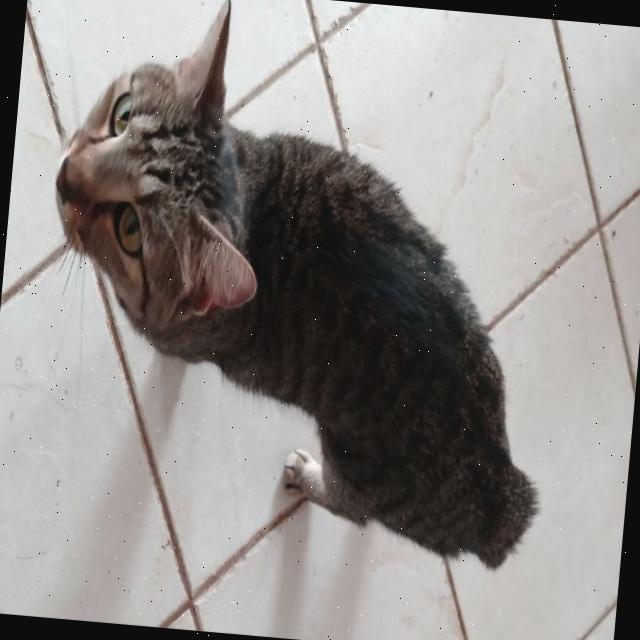manx_cat: (31, 0, 291, 377)
